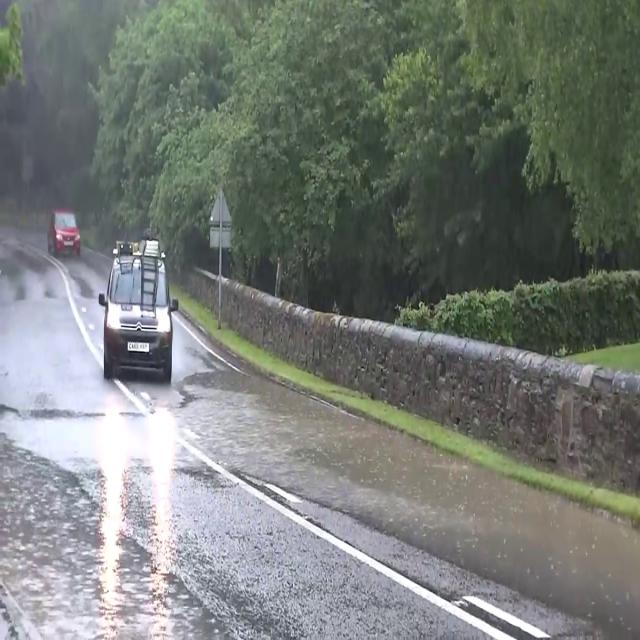license-plate-annotation: (126, 339, 150, 354)
